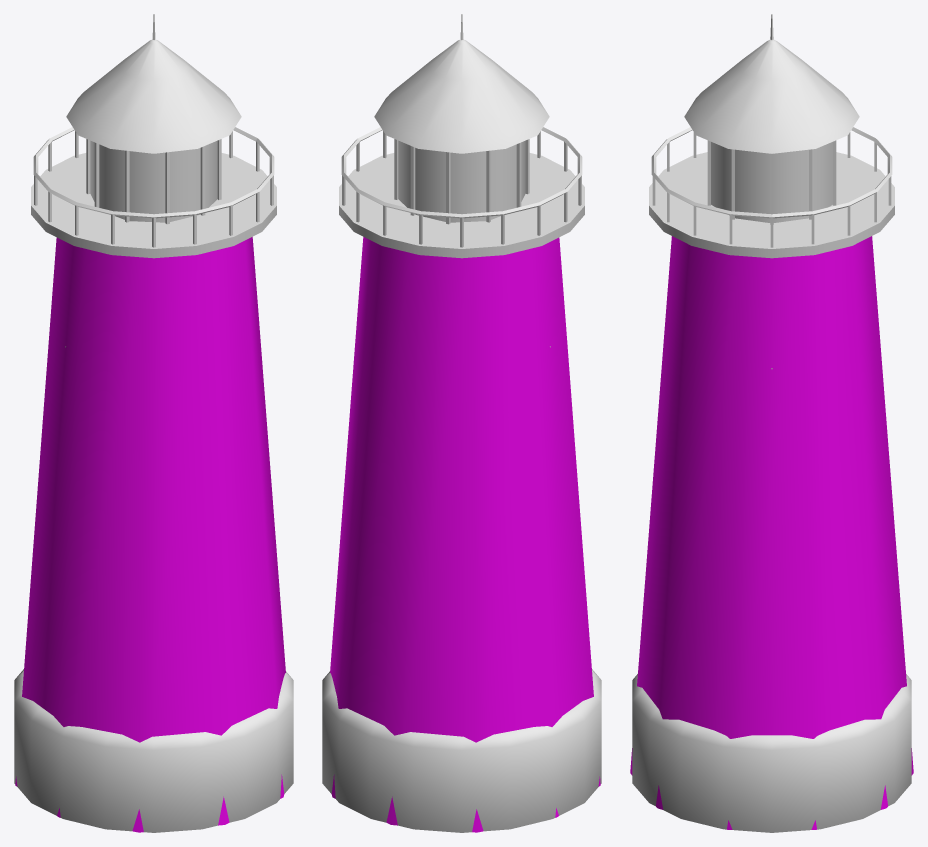
The model's file is lighthouse.glb.
3 views of the same model, side by side, from view 1: azimuth 30°, elevation 25°; view 2: azimuth 150°, elevation 25°; view 3: azimuth 270°, elevation 25° (orthographic).
Visible parts, largest first — view 1: lighthouse_hull, lighthouse; view 2: lighthouse_hull, lighthouse; view 3: lighthouse_hull, lighthouse.
Part boxes in pixels (x1=…): lighthouse_hull: x1=15, y1=237, x2=285, y2=832; lighthouse: x1=14, y1=14, x2=293, y2=832; lighthouse_hull: x1=330, y1=237, x2=600, y2=832; lighthouse: x1=322, y1=14, x2=601, y2=832; lighthouse_hull: x1=630, y1=236, x2=913, y2=829; lighthouse: x1=632, y1=14, x2=911, y2=832.
Bounding box in the file's own units: 8.4 × 24.8 × 8.4.
